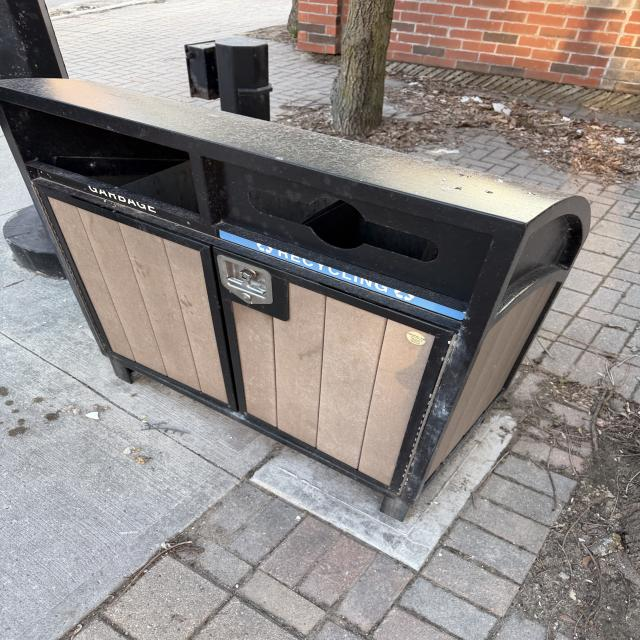Dustbin: (0, 76, 592, 524)
